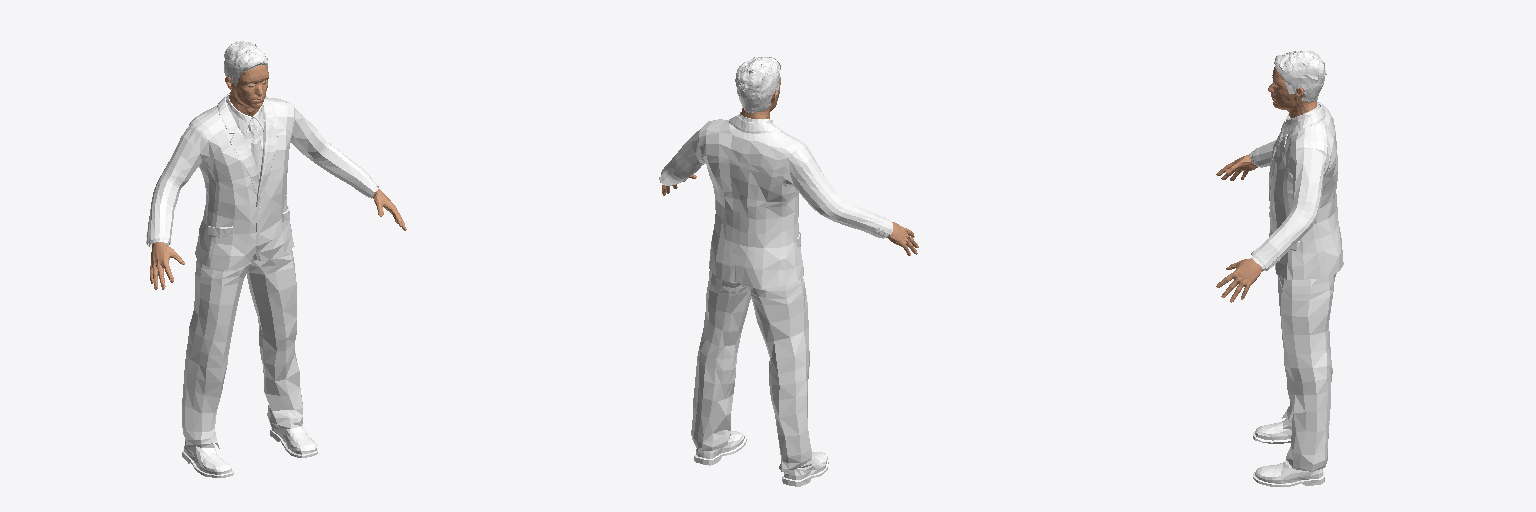
The model's file is makehuman.obj.
3 renders of one model, left to right at view 1: azimuth 30°, elevation 25°; view 2: azimuth 150°, elevation 25°; view 3: azimuth 270°, elevation 25°, orthographic.
Visible parts, largest first — view 1: suit01lres.obj, base.obj, shoes01_lres.obj, mhair01.obj; view 2: suit01lres.obj, mhair01.obj, shoes01_lres.obj, base.obj; view 3: suit01lres.obj, base.obj, shoes01_lres.obj, mhair01.obj.
Part boxes in pixels (x1,y1,x2,y2): suit01lres.obj: (146, 93, 378, 448); base.obj: (150, 65, 406, 289); shoes01_lres.obj: (182, 426, 317, 477); mhair01.obj: (224, 41, 267, 89); suit01lres.obj: (659, 112, 892, 471); mhair01.obj: (735, 57, 780, 112); shoes01_lres.obj: (694, 431, 828, 486); base.obj: (662, 77, 918, 473); suit01lres.obj: (1250, 101, 1343, 471); base.obj: (1216, 67, 1316, 302); shoes01_lres.obj: (1253, 419, 1324, 486); mhair01.obj: (1274, 50, 1326, 102).
Size of the model in its own units: 11.37 by 17.67 by 5.